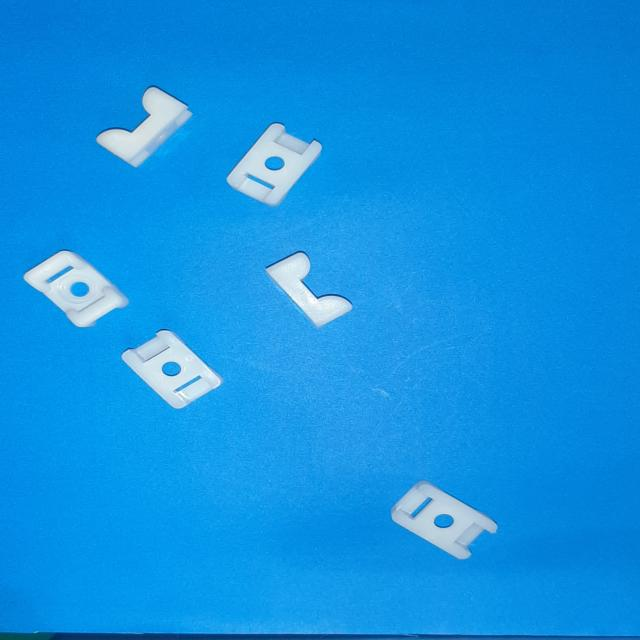false_1: (227, 122, 322, 206), (122, 330, 222, 409)
false_2: (97, 86, 192, 168), (265, 251, 352, 328)
true: (23, 250, 128, 328)
true_center: (70, 282, 88, 296)
